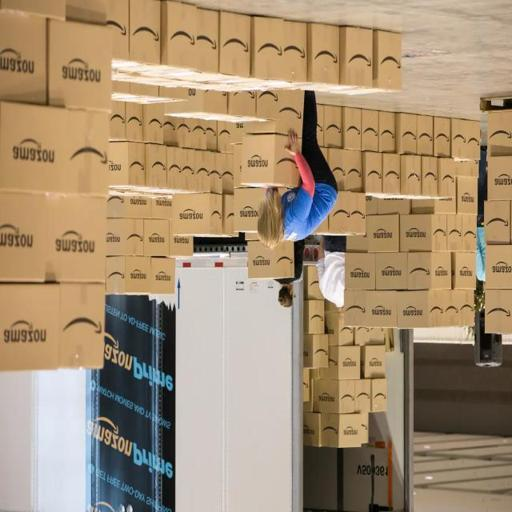Amazon: (0, 99, 110, 195), (46, 19, 112, 111), (47, 196, 106, 285), (0, 284, 58, 368), (55, 285, 107, 368), (0, 11, 45, 104), (0, 195, 45, 283), (244, 132, 300, 188), (81, 1, 130, 61), (166, 0, 196, 86), (341, 23, 375, 96), (171, 194, 228, 236), (369, 22, 404, 90), (132, 0, 162, 76), (232, 188, 281, 234), (219, 11, 251, 81), (309, 21, 340, 92), (255, 87, 301, 134), (194, 3, 220, 86), (253, 14, 284, 81), (329, 189, 369, 239), (398, 293, 446, 332), (345, 291, 395, 328), (282, 20, 308, 87), (247, 243, 295, 278), (407, 254, 453, 290), (322, 412, 362, 450), (406, 217, 447, 254), (109, 256, 149, 293), (329, 150, 365, 190), (106, 218, 145, 253), (453, 118, 484, 162), (484, 199, 512, 247), (316, 380, 356, 413), (117, 142, 146, 187), (367, 217, 403, 252), (323, 348, 362, 379), (485, 287, 512, 331), (485, 245, 512, 285), (144, 218, 173, 253), (489, 112, 512, 155), (346, 256, 375, 290), (376, 257, 405, 291), (454, 253, 479, 292), (395, 113, 417, 157), (489, 158, 512, 200), (328, 313, 359, 343), (252, 82, 280, 115), (341, 105, 361, 151), (143, 103, 165, 143), (148, 142, 167, 188), (150, 256, 173, 293), (104, 188, 133, 217), (189, 149, 209, 191), (403, 157, 423, 198), (304, 263, 326, 300), (376, 111, 397, 149), (363, 345, 387, 378), (416, 116, 435, 157), (361, 110, 379, 151), (421, 156, 438, 199), (171, 225, 195, 255), (304, 336, 327, 367), (125, 100, 143, 139), (365, 153, 383, 192), (383, 154, 401, 193), (165, 146, 182, 187), (324, 105, 340, 148), (459, 179, 479, 213), (131, 192, 156, 219), (237, 78, 255, 115), (110, 100, 127, 138), (435, 117, 453, 152), (309, 298, 326, 334), (355, 377, 372, 413), (179, 151, 195, 185), (449, 217, 464, 253), (207, 152, 221, 190), (446, 293, 462, 326), (373, 379, 390, 410), (464, 215, 477, 254), (220, 152, 233, 189), (443, 156, 454, 197), (461, 293, 476, 321), (193, 115, 206, 144), (179, 112, 191, 141), (220, 122, 232, 150), (166, 112, 177, 141), (206, 114, 217, 143)
